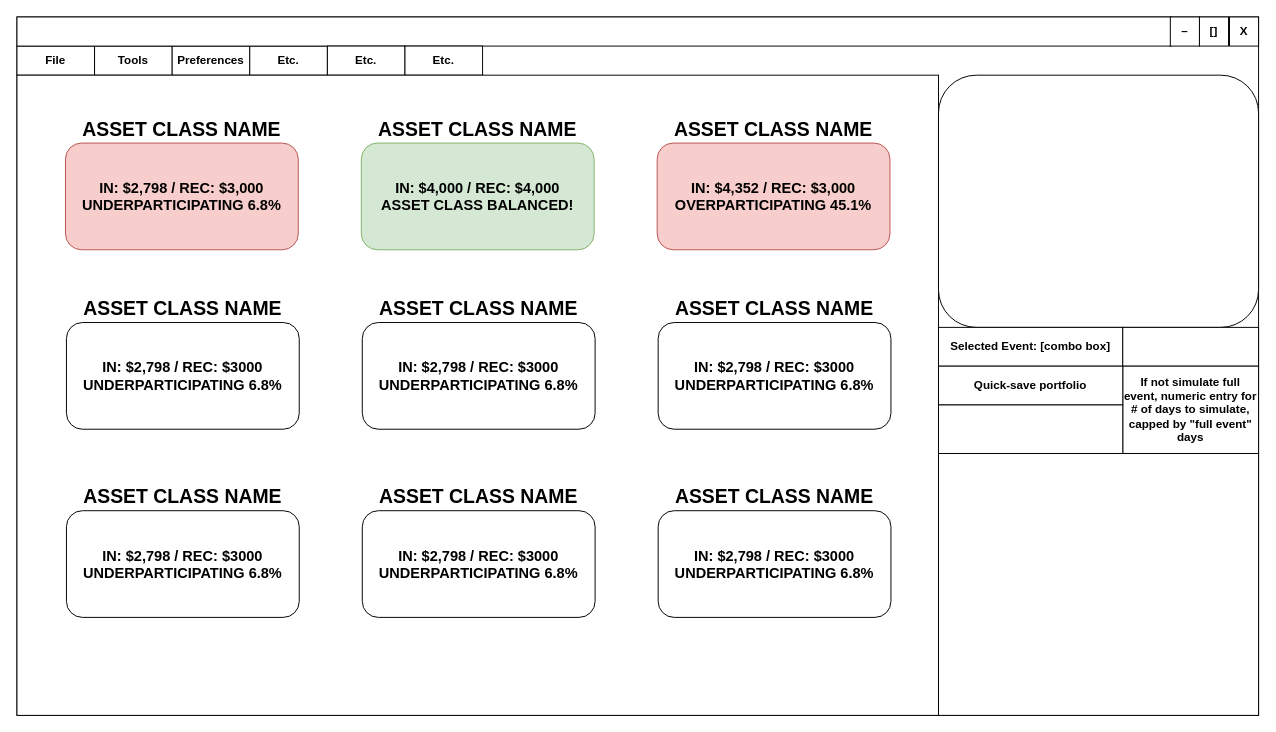
This 1276x732 diagram has some shape labels left out. The centre of each missing label's shape, as x and y in pixels:
"ACTIVE/FILE/PATH/file.csv" goes at [593,31].
"Manual input of variables like risk tolerance, age, etc." goes at [1098,584].
"PORTFOLIO SIMULATION GRAPH" goes at [1098,200].
"Quick-load portfolio" goes at [1030,428].
"Simulate Full Event? [checkbox]" goes at [1190,346].
